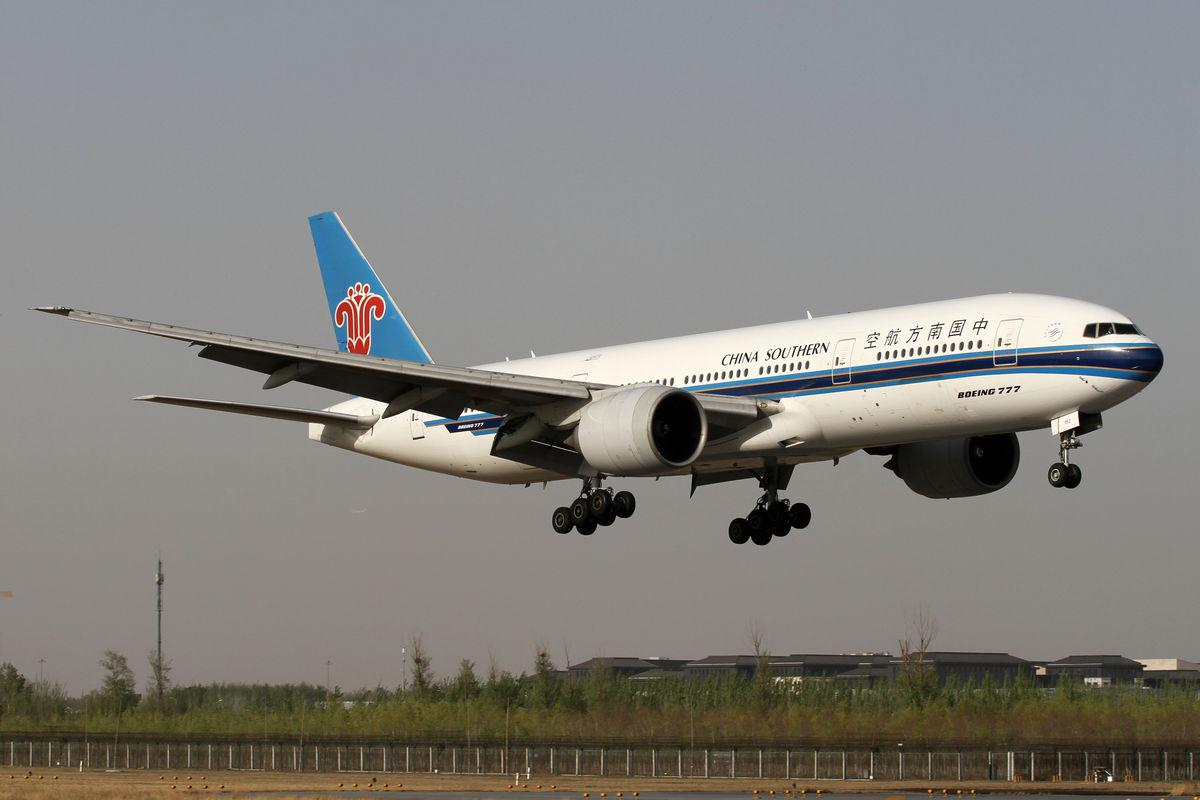airplane: (27, 203, 1166, 551)
